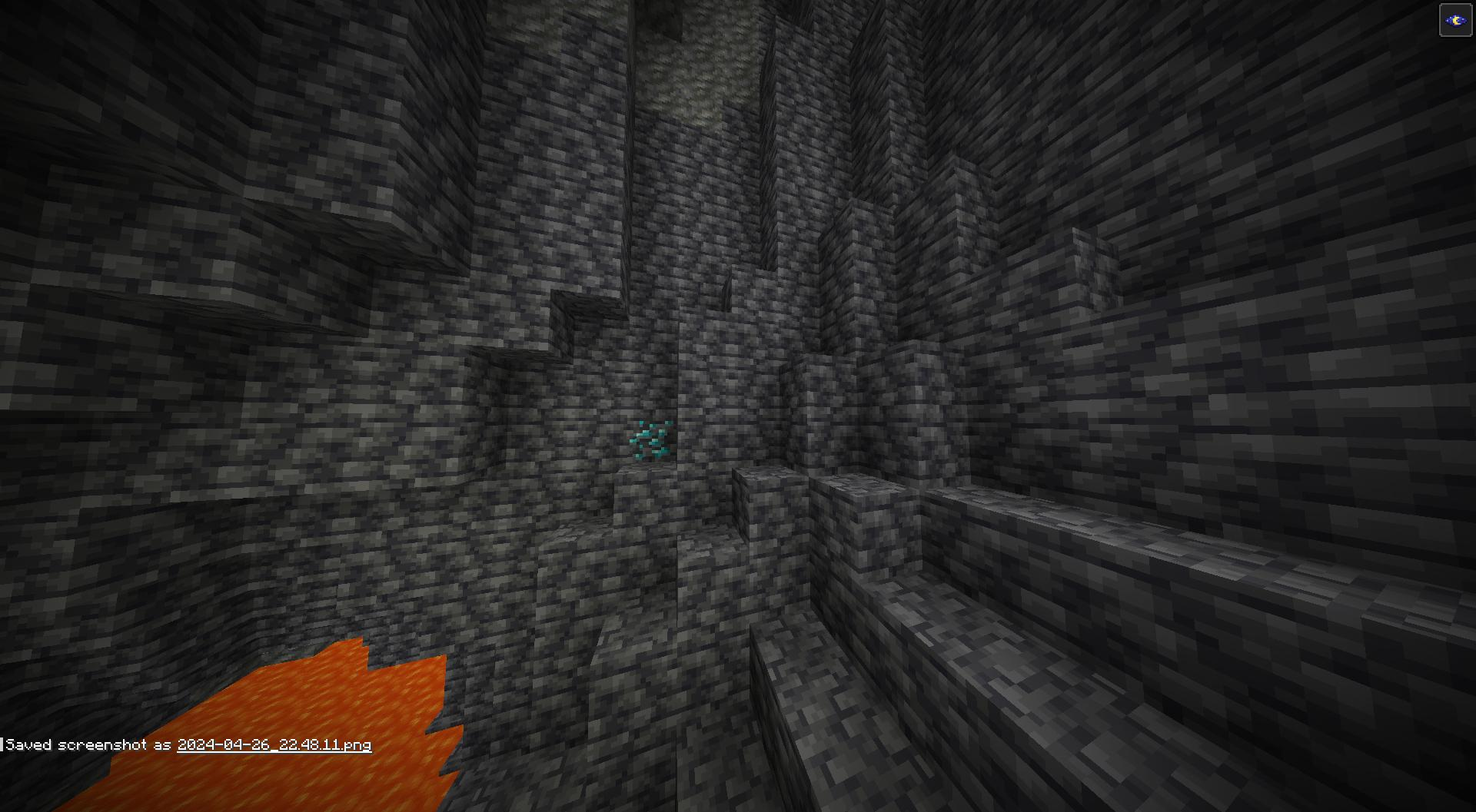diamond ore: (632, 418, 673, 459)
